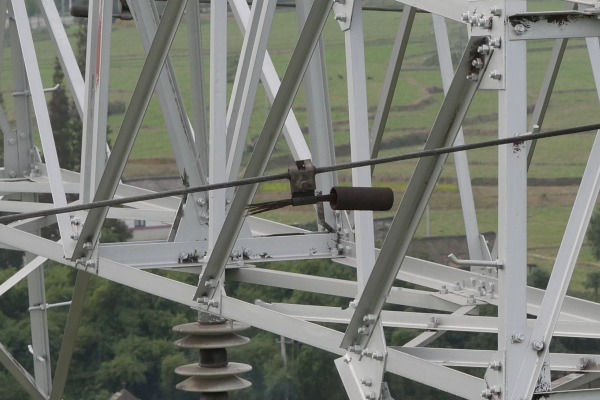damper_defect: (238, 155, 397, 216)
